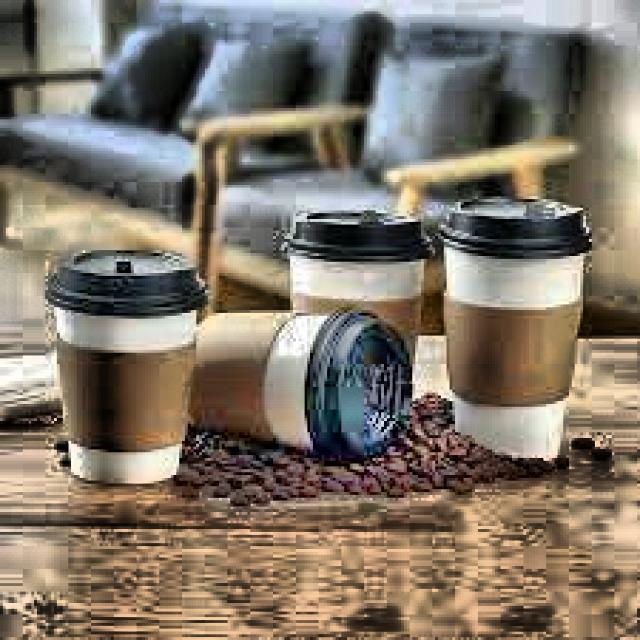Cup: (433, 211, 578, 470), (52, 246, 202, 473), (284, 232, 438, 413), (178, 304, 360, 448)
